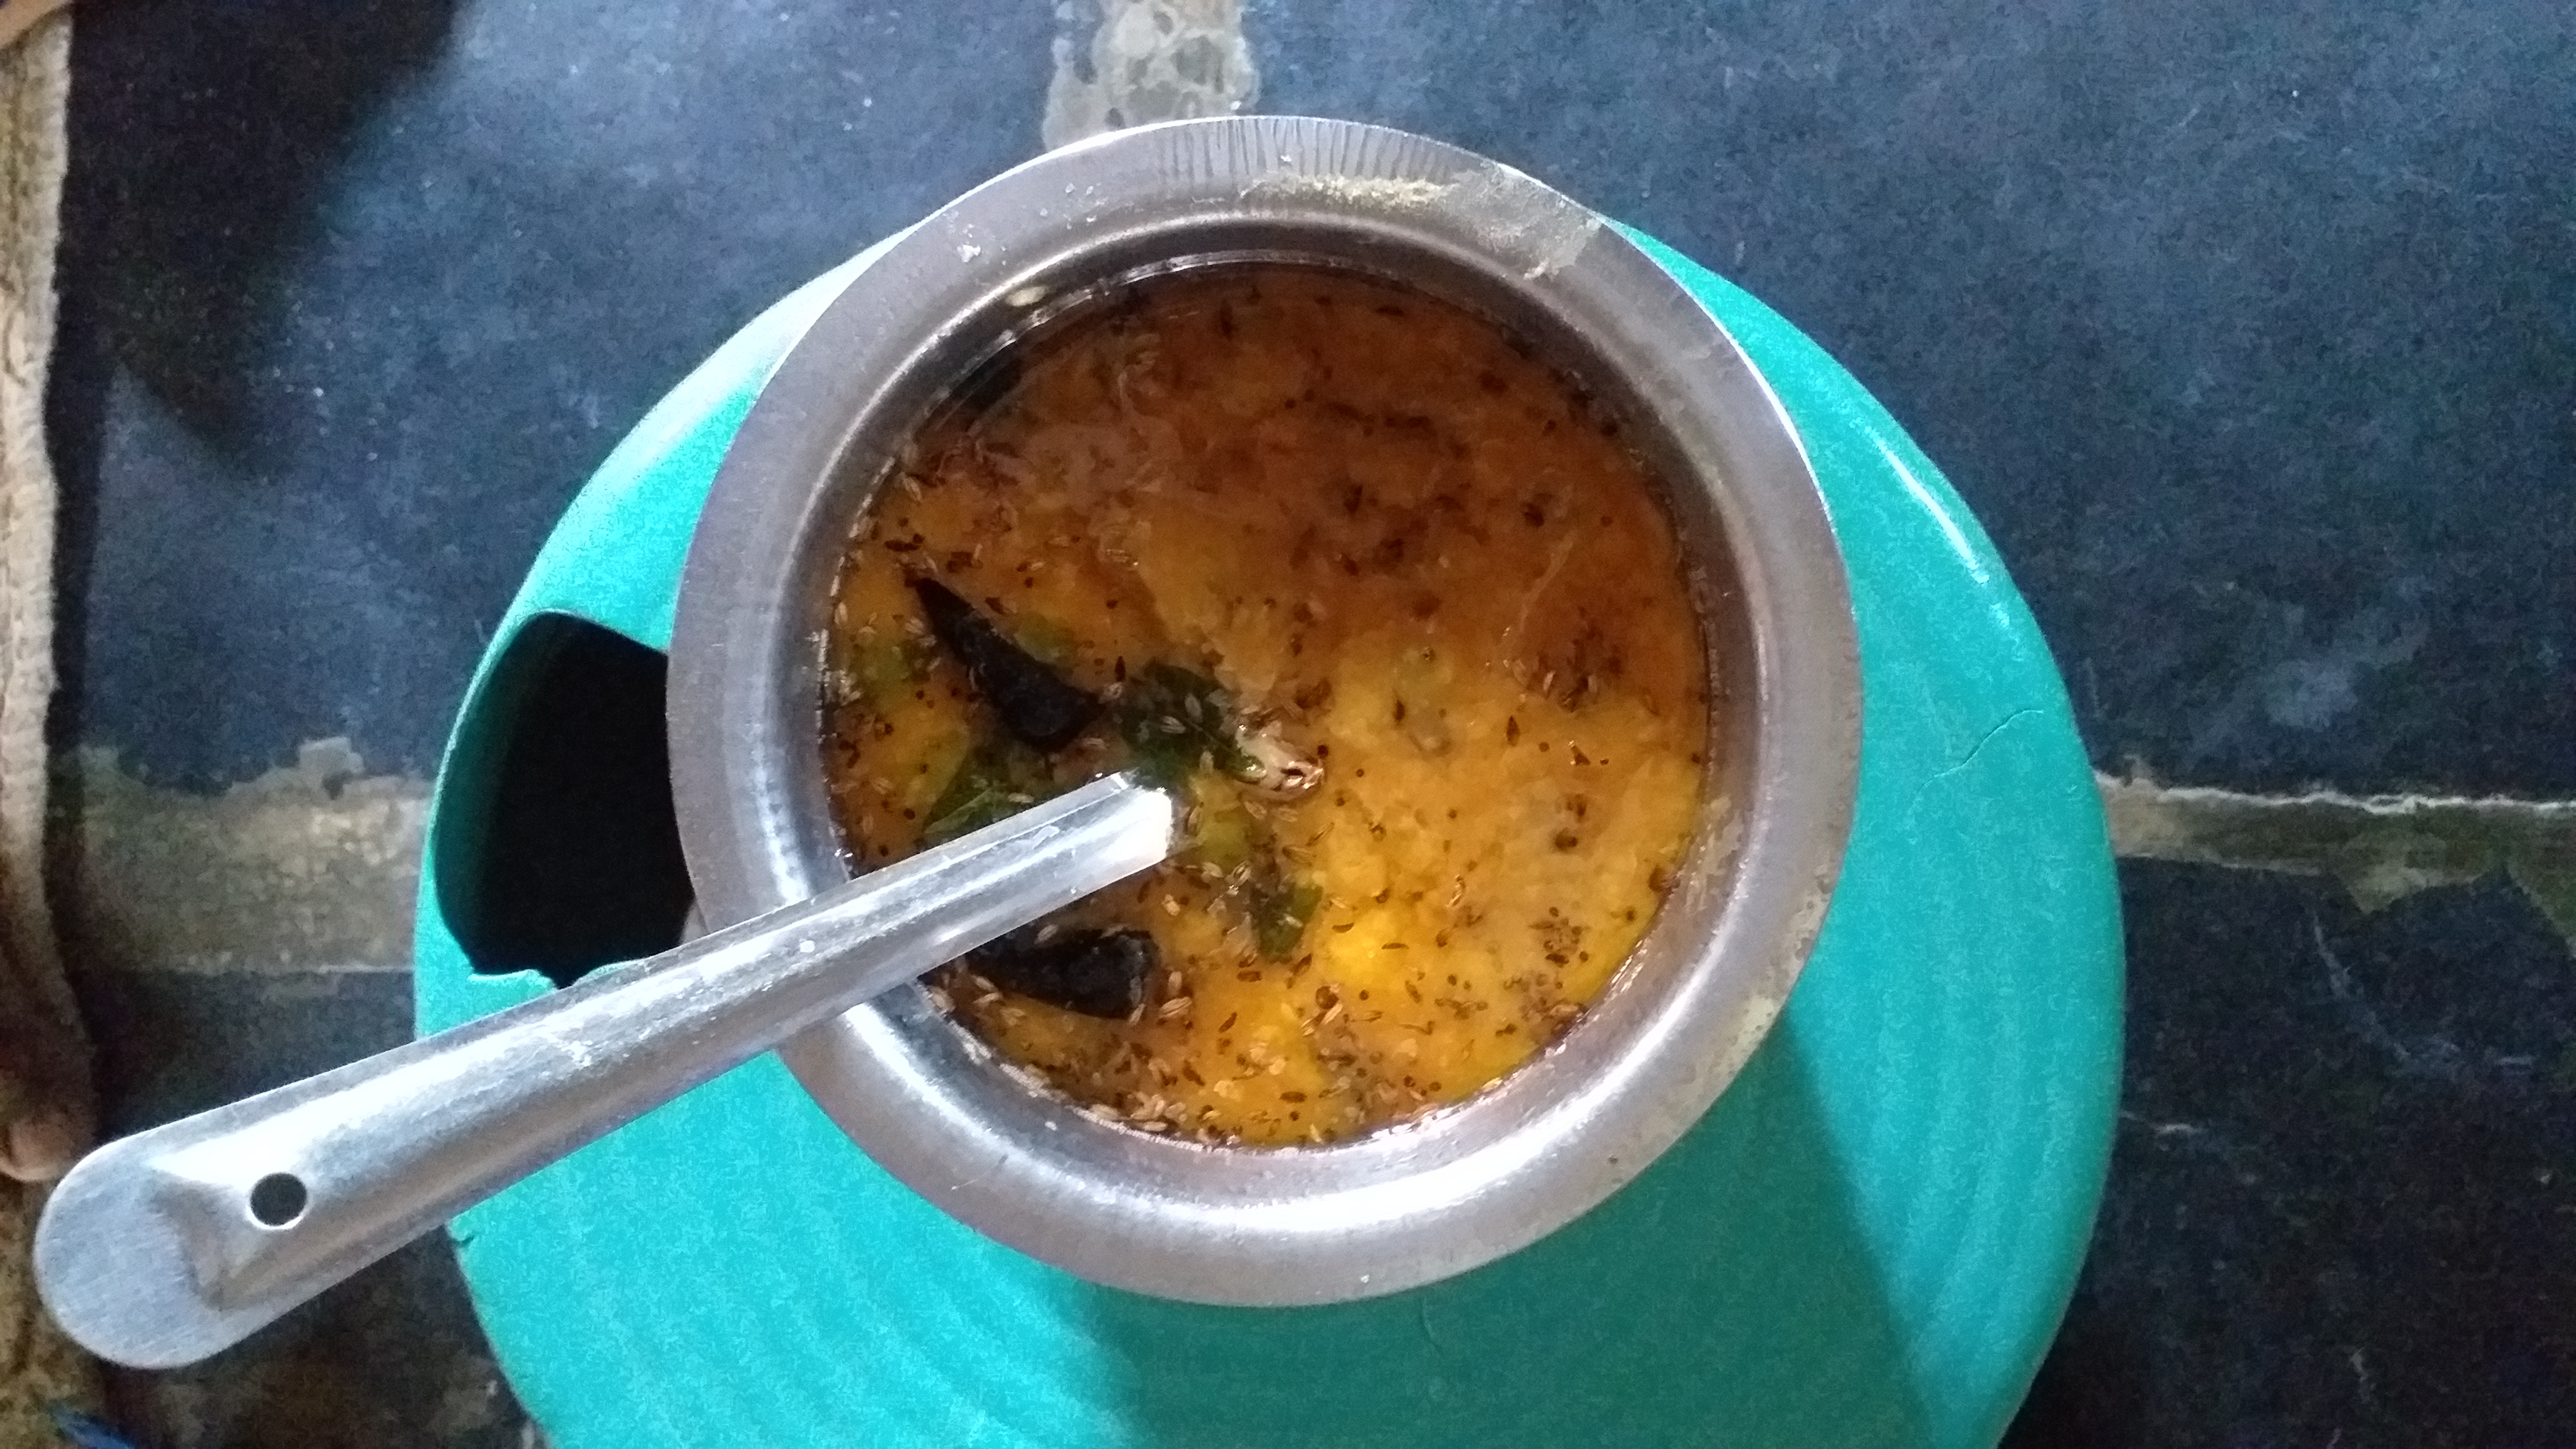food: (800, 248, 1732, 1161)
